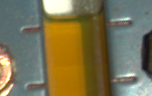liquidlevel: (42, 11, 106, 26)
